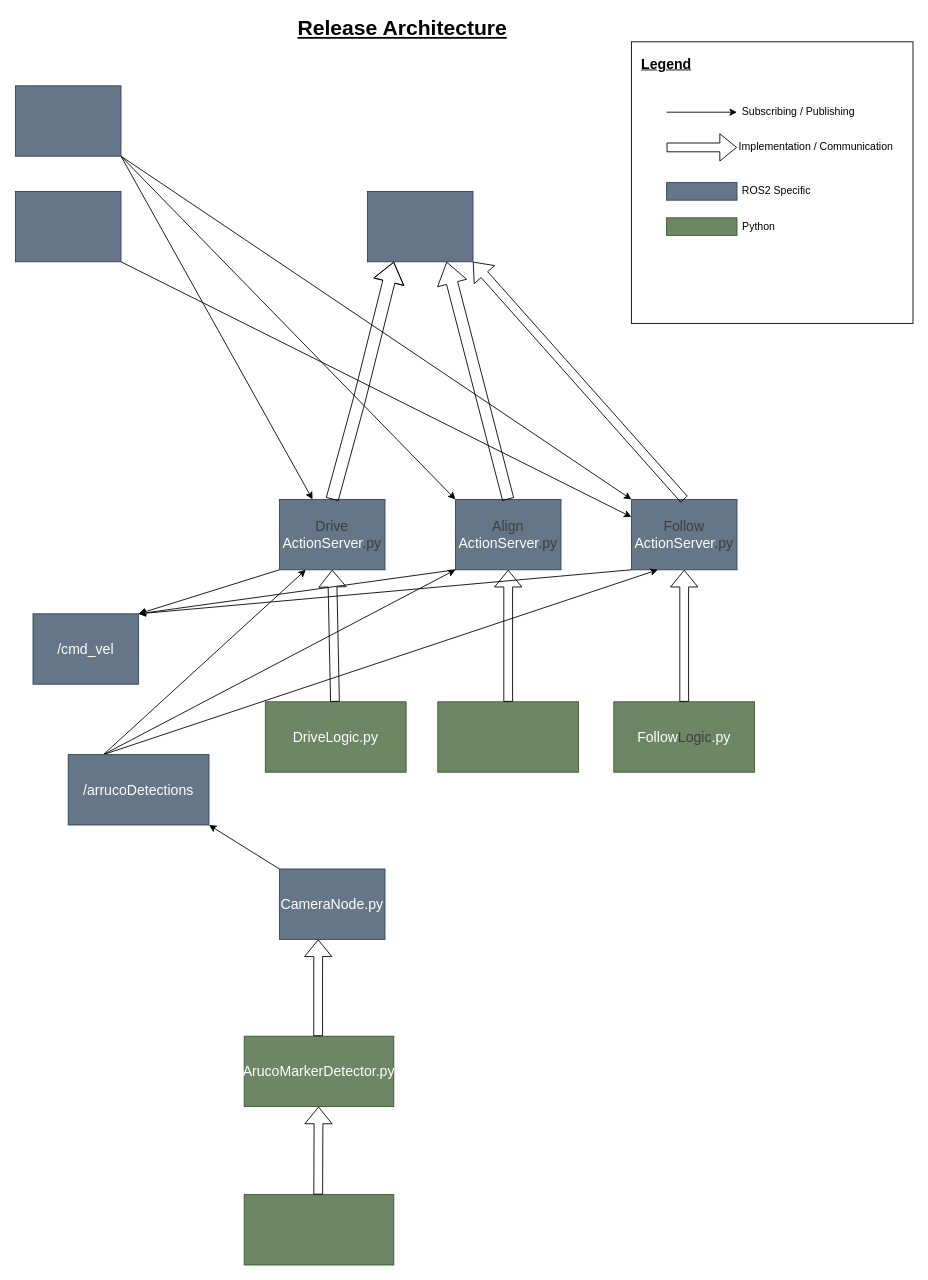
The diagram is 928 pixels wide and 1280 high, and some of its shapes have lost their labels. Here are the shapes that lost their labels. From the top down, the centre of each, then its label:
point 68,120: /max_speed
point 68,226: /target_distance
point 420,226: Actionhandler.py
point 508,736: Align Logic .py
point 318,1229: PictureProcessing.py
